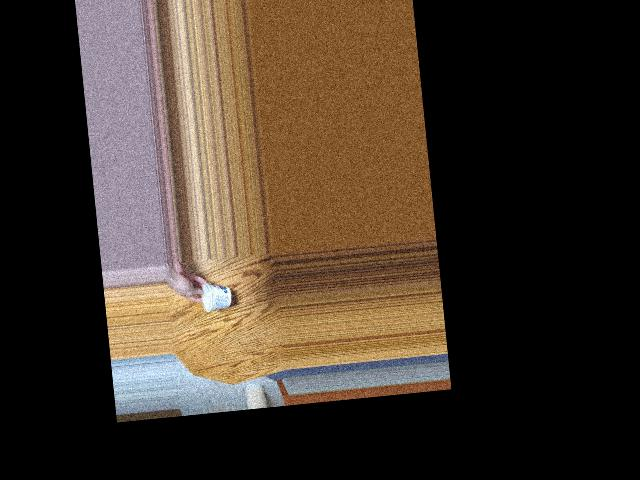cotage: (200, 281, 229, 315)
